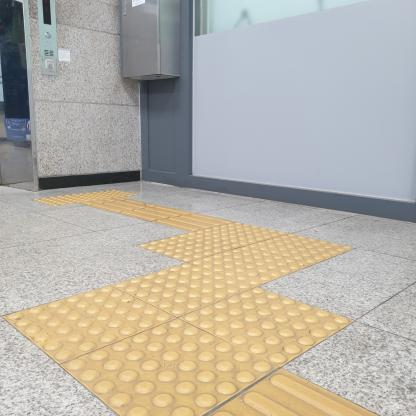go: (151, 213, 237, 232)
stop: (59, 317, 280, 416), (2, 284, 180, 364), (179, 287, 354, 368), (110, 263, 258, 318), (187, 246, 315, 287), (245, 233, 356, 264), (139, 232, 246, 263), (194, 222, 290, 246)
